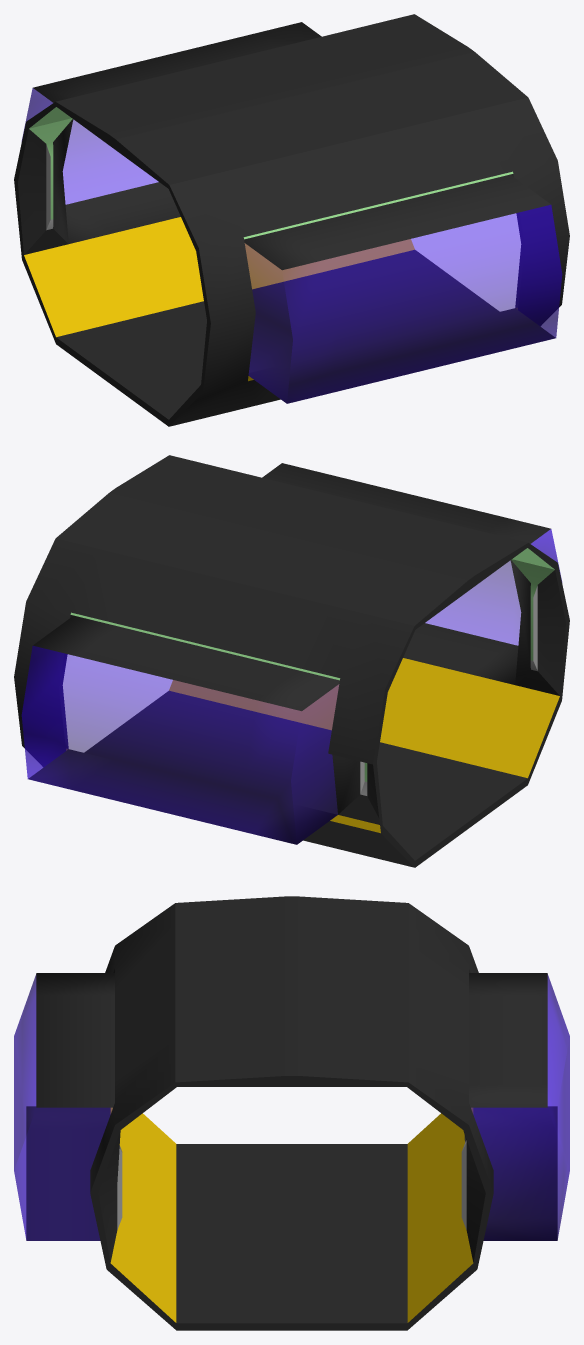
File: Corridore2.fbx
3 views of the same model, one above another, from view 1: azimuth 30°, elevation 25°; view 2: azimuth 150°, elevation 25°; view 3: azimuth 270°, elevation 25° (orthographic). The views are drawn at different scales.
Parts seen in each view (by area): view 1: Corridore2; view 2: Corridore2; view 3: Corridore2.
Part boxes in pixels (x1=…): Corridore2: x1=14, y1=14, x2=569, y2=426; Corridore2: x1=14, y1=455, x2=569, y2=867; Corridore2: x1=14, y1=896, x2=569, y2=1330.
Size of the model in its own units: 547 by 362 by 716.
